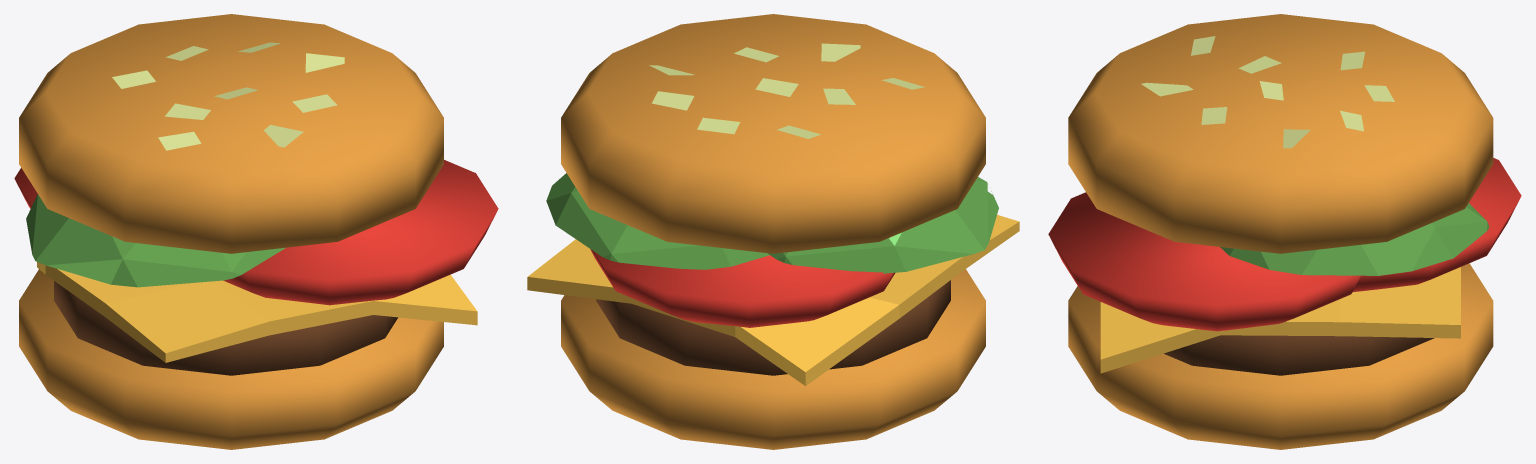
Rendered from Burger(TomatoAndLettuce).glb.
3 renders of one model, left to right at view 1: azimuth 30°, elevation 25°; view 2: azimuth 150°, elevation 25°; view 3: azimuth 270°, elevation 25°, orthographic.
Visible parts, largest first — view 1: Cylinder.002; view 2: Cylinder.002; view 3: Cylinder.002.
Part boxes in pixels (left/top/right/bottom): Cylinder.002: left=14, top=14, right=498, bottom=449; Cylinder.002: left=527, top=14, right=1019, bottom=449; Cylinder.002: left=1048, top=14, right=1521, bottom=449.
Bounding box in the file's own units: 0.5335 × 0.3494 × 0.5252.
